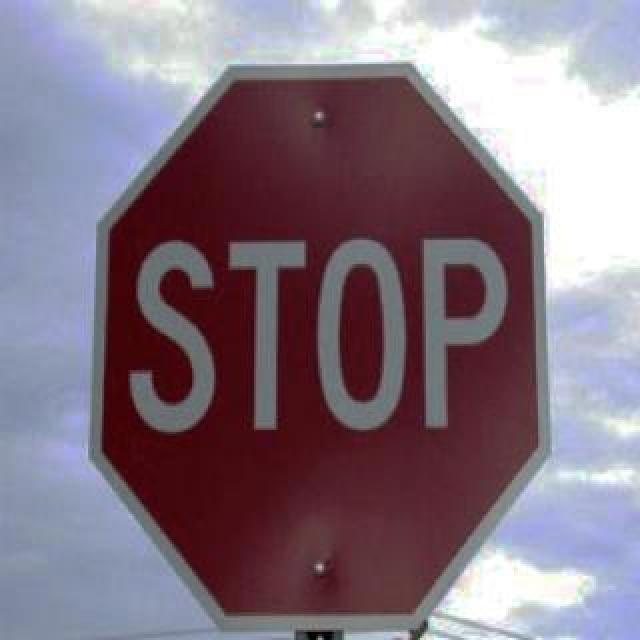stop: (86, 62, 554, 638)
